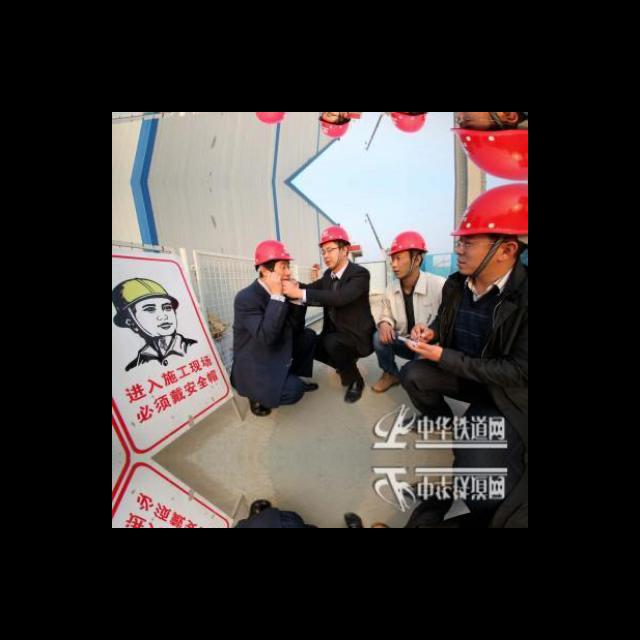Hardhat: (448, 184, 528, 239), (384, 230, 430, 259), (250, 240, 294, 267), (315, 225, 353, 249), (317, 120, 350, 142)
NO-Mask: (454, 249, 499, 273), (392, 262, 415, 275), (324, 255, 341, 268), (272, 271, 290, 283)
NO-Safety Vest: (442, 274, 528, 370), (234, 285, 295, 353), (382, 276, 447, 332), (316, 270, 368, 327)
Person: (400, 183, 528, 431), (282, 225, 376, 401), (230, 240, 308, 416), (372, 228, 449, 388), (410, 445, 528, 527), (447, 112, 528, 178), (448, 128, 528, 181), (315, 112, 353, 138), (387, 112, 428, 134), (254, 112, 288, 124)
